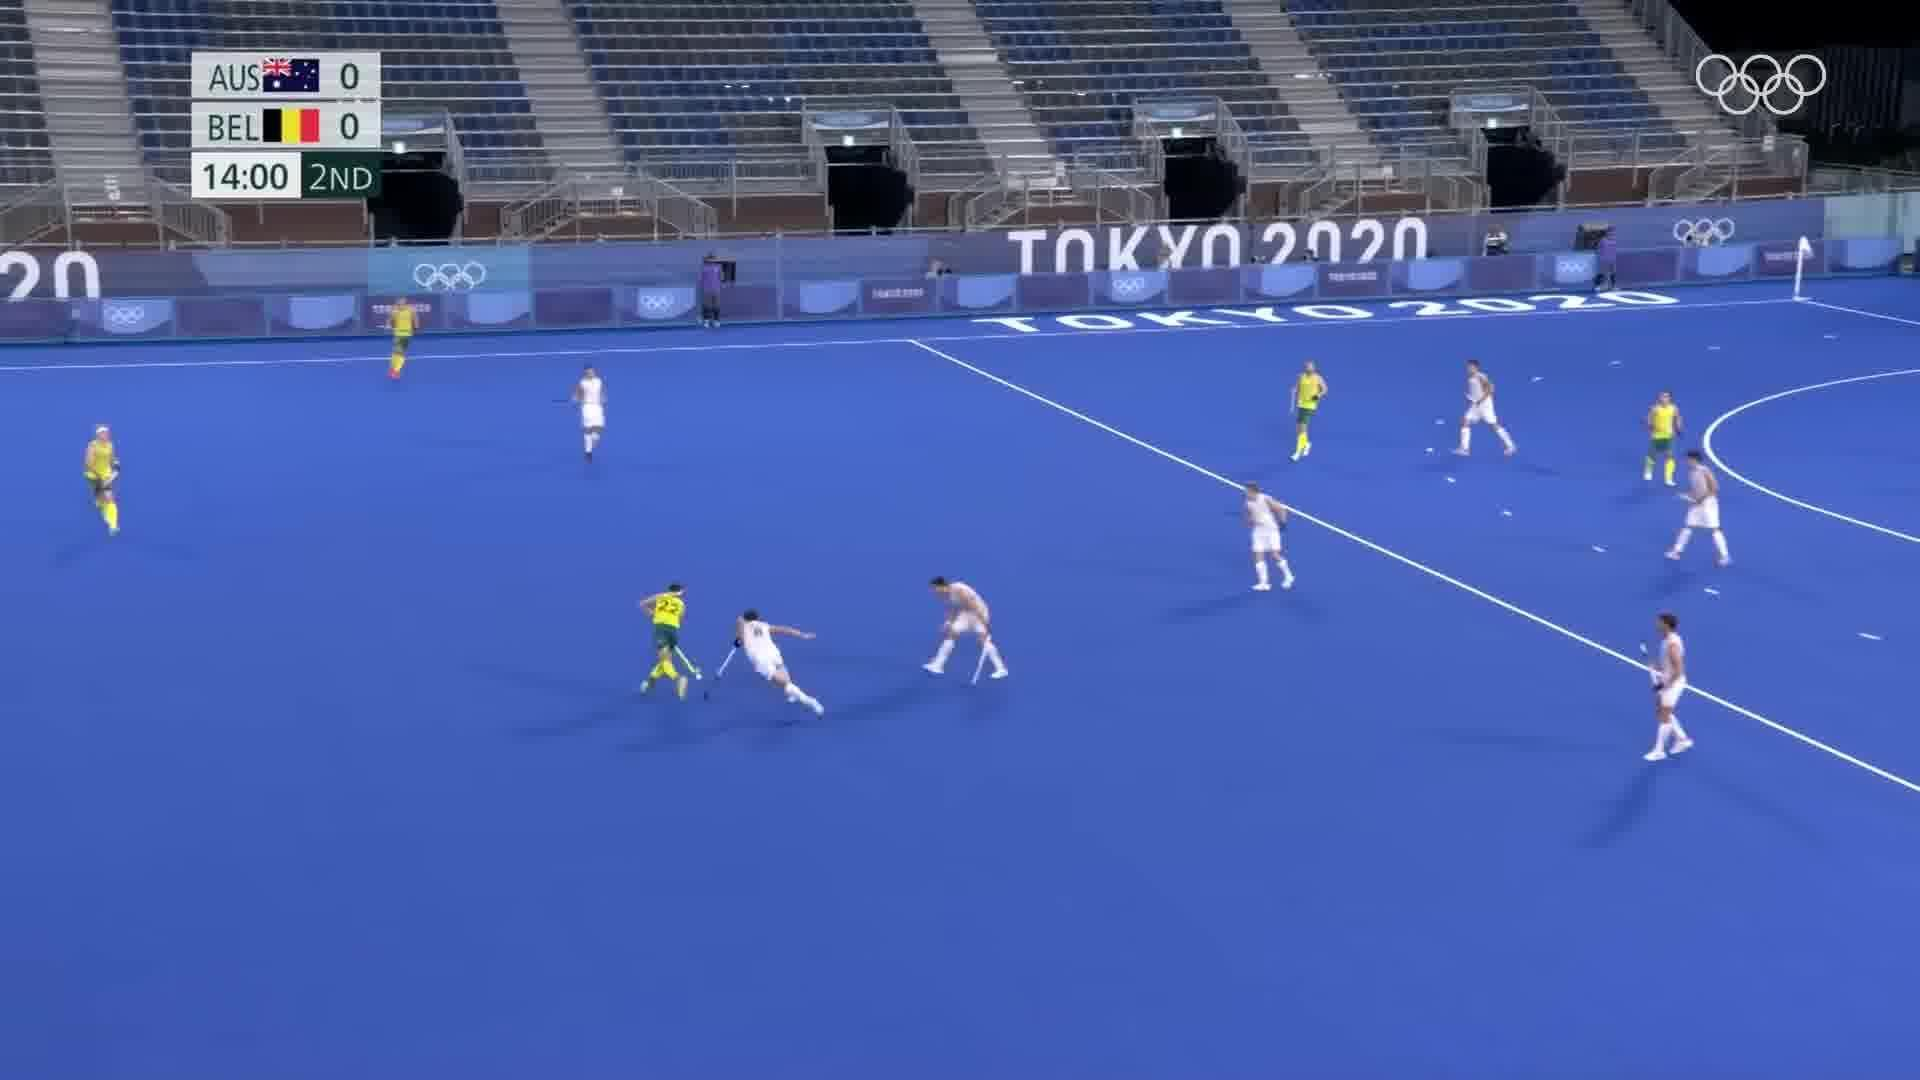ball: (690, 670, 704, 683)
